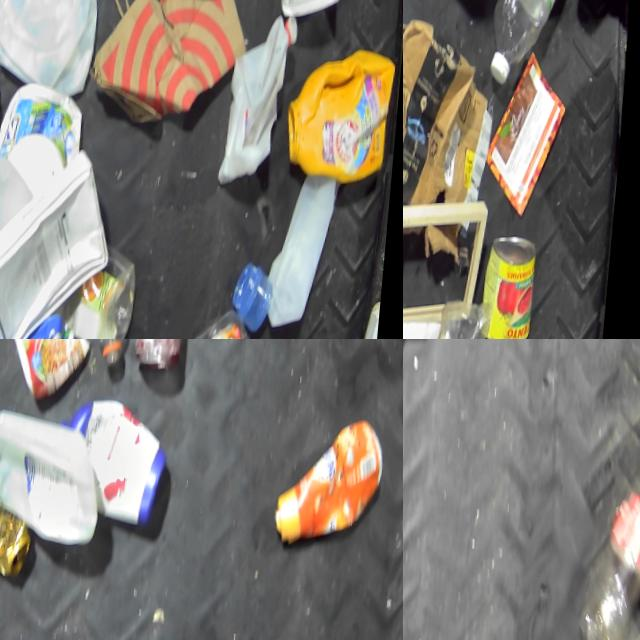can: (488, 0, 576, 92), (487, 234, 547, 339)
milk_jug: (0, 404, 110, 544), (230, 10, 301, 185), (0, 0, 108, 84), (0, 147, 27, 293)
non_white_jug: (296, 47, 400, 189)
plastic_bottle: (577, 435, 640, 640)
